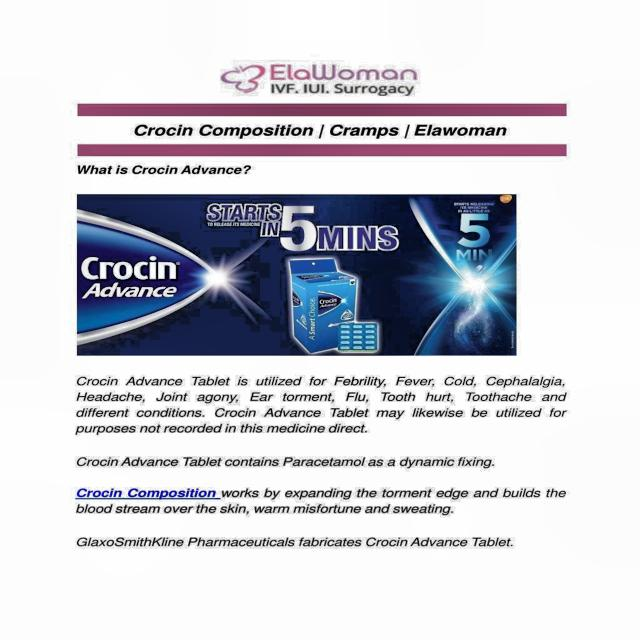Crocin: (80, 195, 518, 353)
